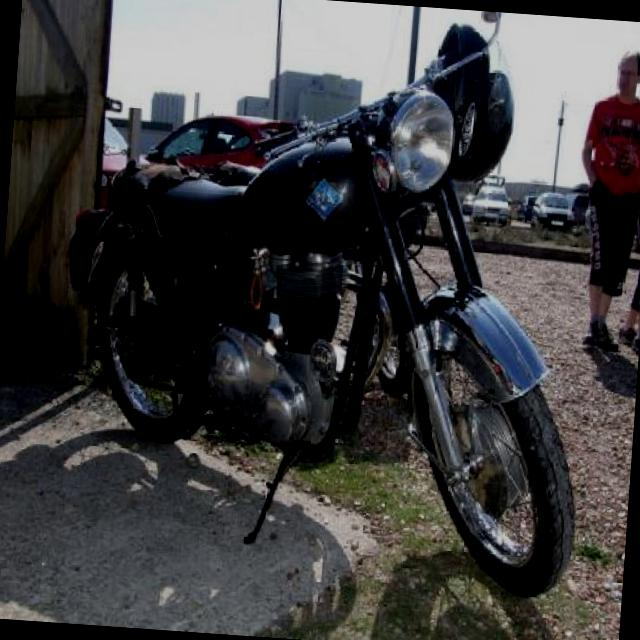Person: (569, 44, 640, 354)
